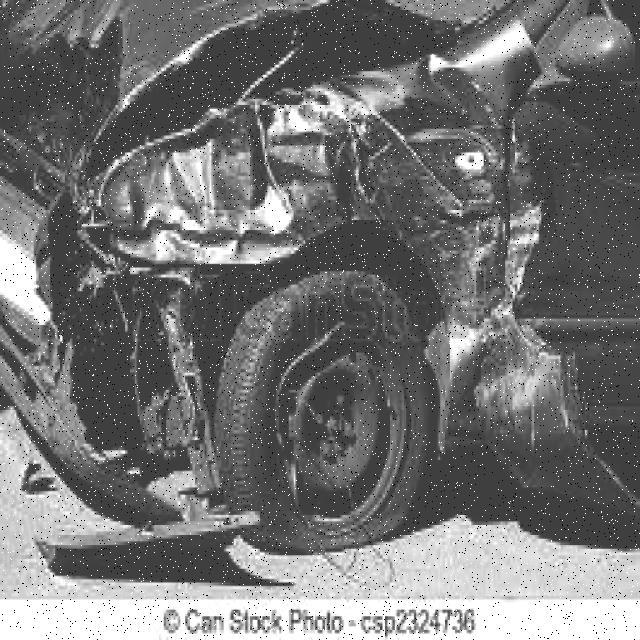car damage: (1, 0, 640, 570)
